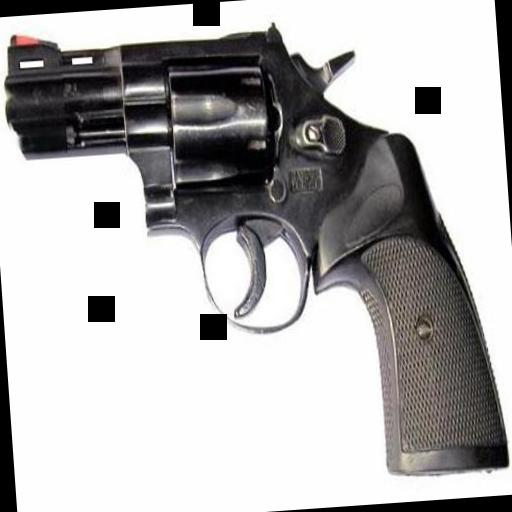Handgun: (0, 0, 508, 499)
